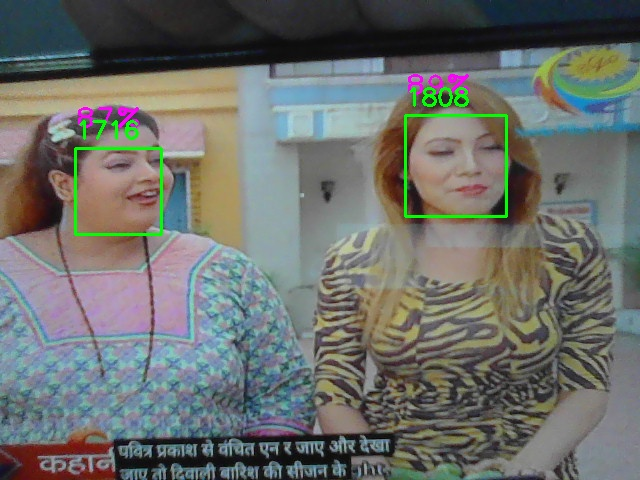fake: (405, 115, 507, 217), (75, 148, 162, 235)
